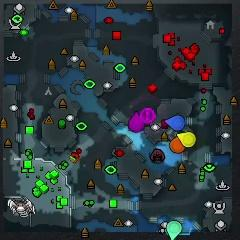Other: (141, 108, 156, 124)
p1: (165, 115, 186, 132)
p2: (166, 220, 182, 240)
p3: (128, 111, 144, 132)
p4: (177, 132, 197, 148)
p5: (170, 136, 185, 153)
